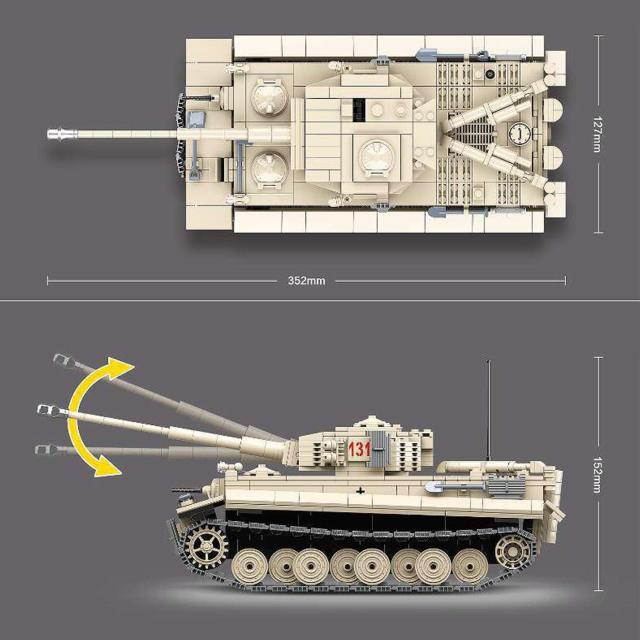Tanks: (128, 378, 578, 613), (174, 36, 568, 250)
